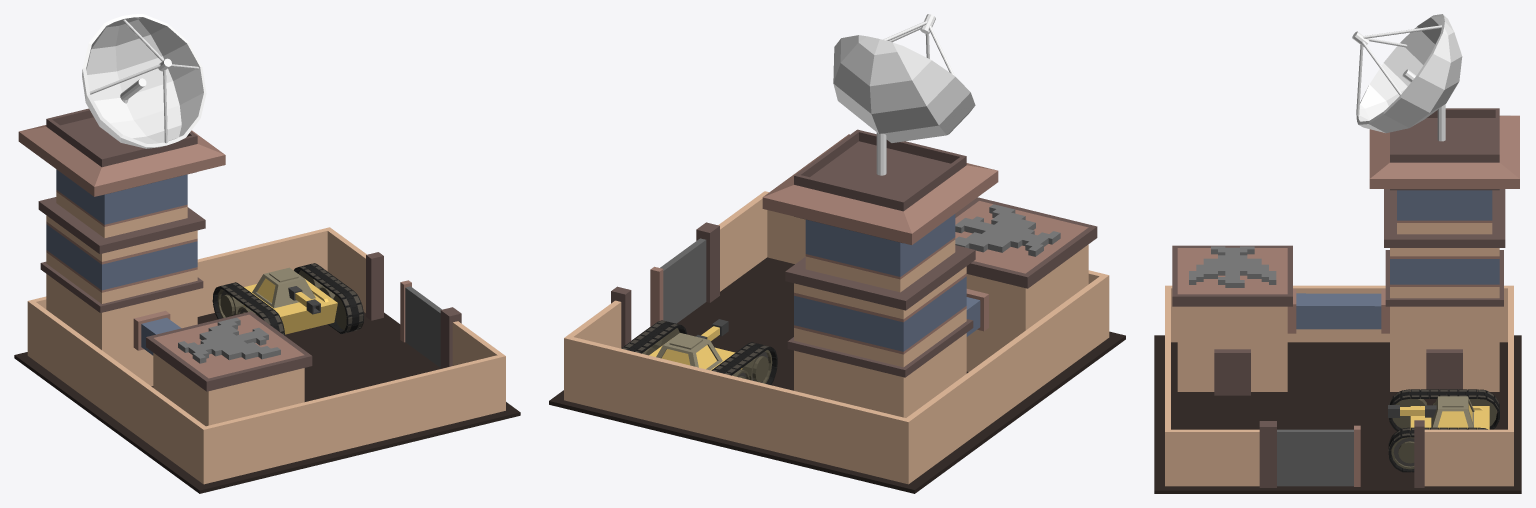
3 renders of one model, left to right at view 1: azimuth 30°, elevation 25°; view 2: azimuth 150°, elevation 25°; view 3: azimuth 270°, elevation 25°, orthographic. The views are drawn at different scales.
Parts seen in each view (by area): view 1: Cube.009, Cube.244, Sphere, Plane.005, Cube.245; view 2: Cube.009, Cube.244, Plane.005, Sphere, Cube.245; view 3: Cube.009, Plane.005, Cube.244, Sphere, Cube.245.
Part boxes in pixels (bbox=[...]): Cube.009: bbox=[18, 108, 312, 426]; Cube.244: bbox=[27, 227, 505, 484]; Sphere: bbox=[82, 14, 206, 148]; Plane.005: bbox=[14, 312, 520, 493]; Cube.245: bbox=[212, 263, 363, 335]; Cube.009: bbox=[762, 129, 1097, 417]; Cube.244: bbox=[564, 191, 1109, 484]; Plane.005: bbox=[549, 257, 1125, 493]; Sphere: bbox=[833, 14, 975, 175]; Cube.245: bbox=[621, 319, 777, 384]; Cube.009: bbox=[1172, 108, 1519, 395]; Plane.005: bbox=[1154, 335, 1521, 493]; Cube.244: bbox=[1165, 285, 1513, 487]; Sphere: bbox=[1352, 14, 1462, 141]; Cube.245: bbox=[1388, 389, 1499, 472].
Bounding box in the file's own units: 212 × 224 × 212.
